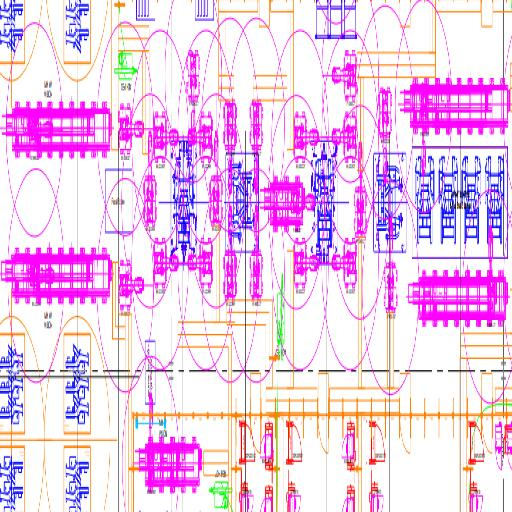robot: (186, 228, 214, 298), (376, 85, 395, 184), (482, 224, 499, 334), (382, 216, 399, 322), (150, 232, 178, 295), (330, 48, 360, 106), (415, 75, 433, 171), (185, 40, 200, 153), (116, 256, 145, 314), (291, 109, 320, 164), (223, 96, 238, 199), (116, 99, 144, 154), (208, 130, 224, 226), (144, 380, 157, 497), (330, 235, 357, 291), (249, 96, 264, 195), (293, 238, 320, 292), (331, 110, 358, 164), (152, 110, 178, 165), (250, 203, 264, 302), (224, 204, 237, 308)
